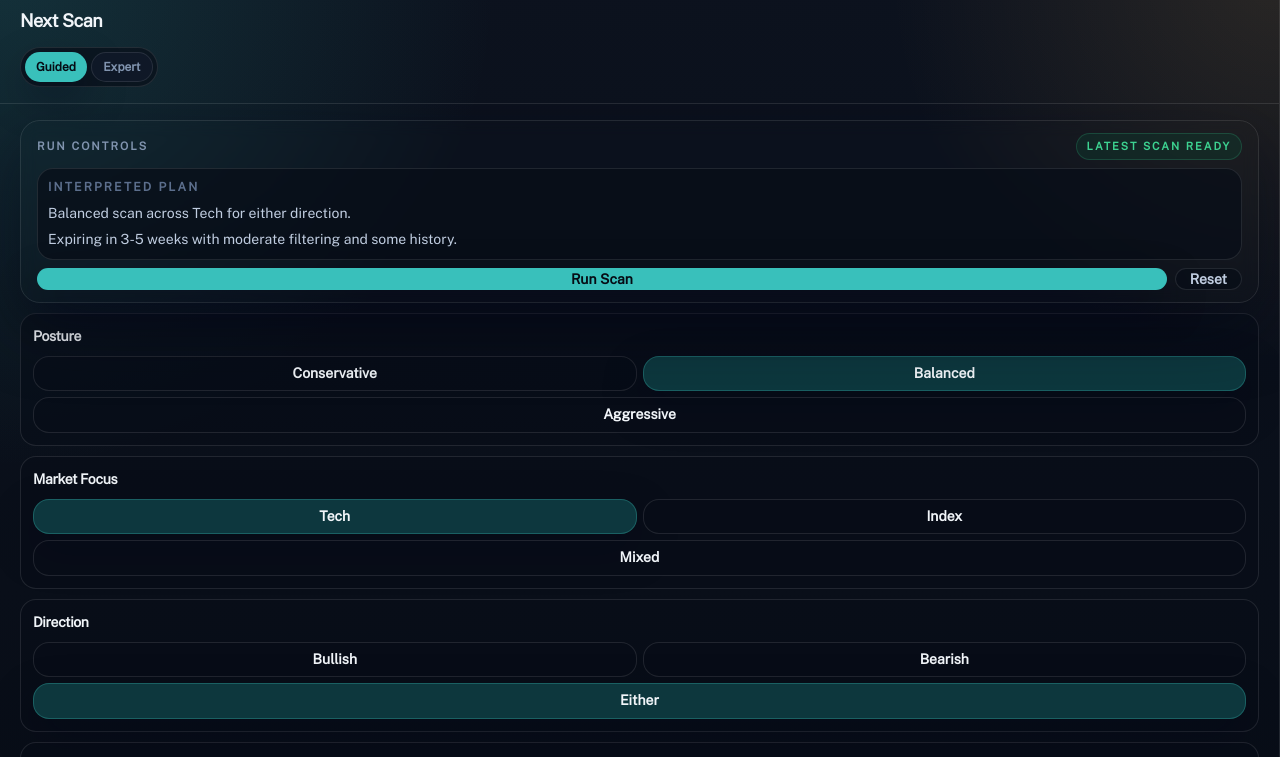
Test: Sidebar › renders a short interpreted plan summary that updates as guided choices change
Expected: the text "Balanced scan across Tech for either direction." is shown, [48,205,351,221]
Expected: the text "Expiring in 3-5 weeks with moderate filtering and some history." is shown, [48,231,457,247]
Click the button "Bearish" at (944, 659), box [642,642,1246,677]
(page scrolled)
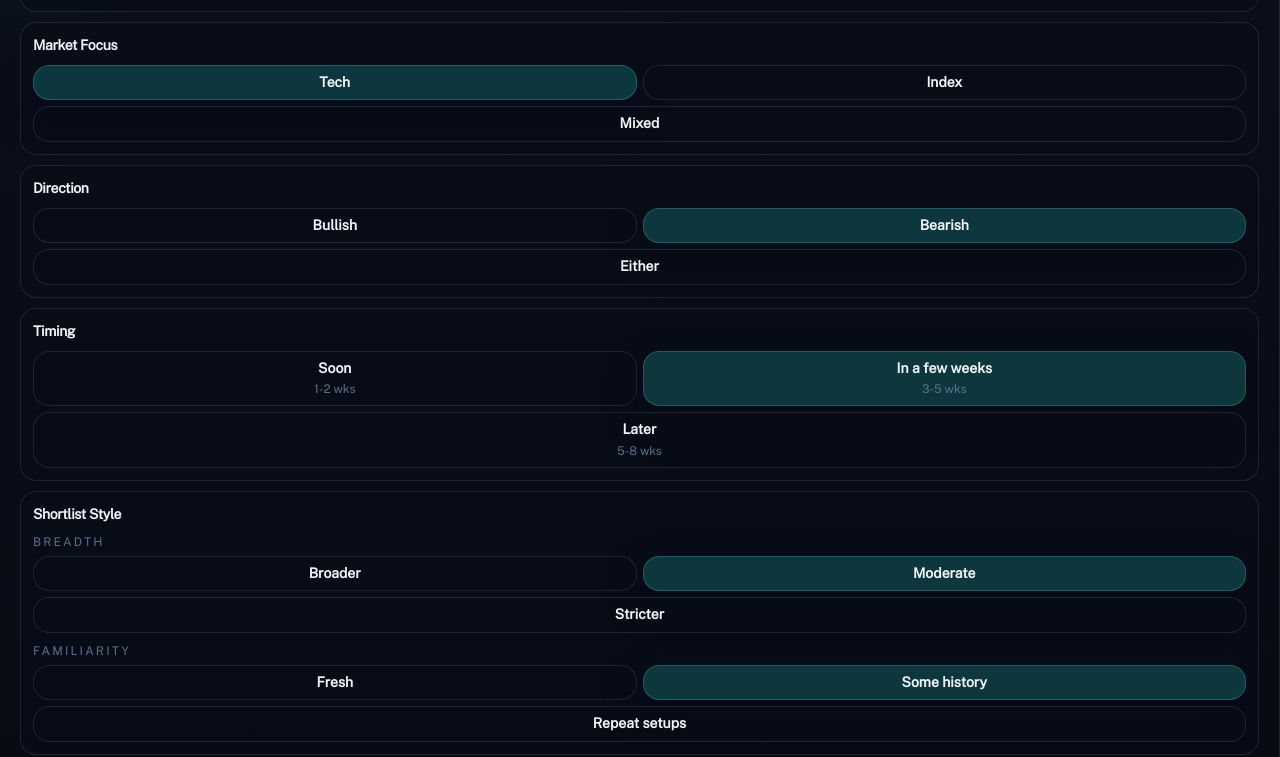
Click the button "Later 5-8 wks" at (640, 440), box [33,412,1246,468]
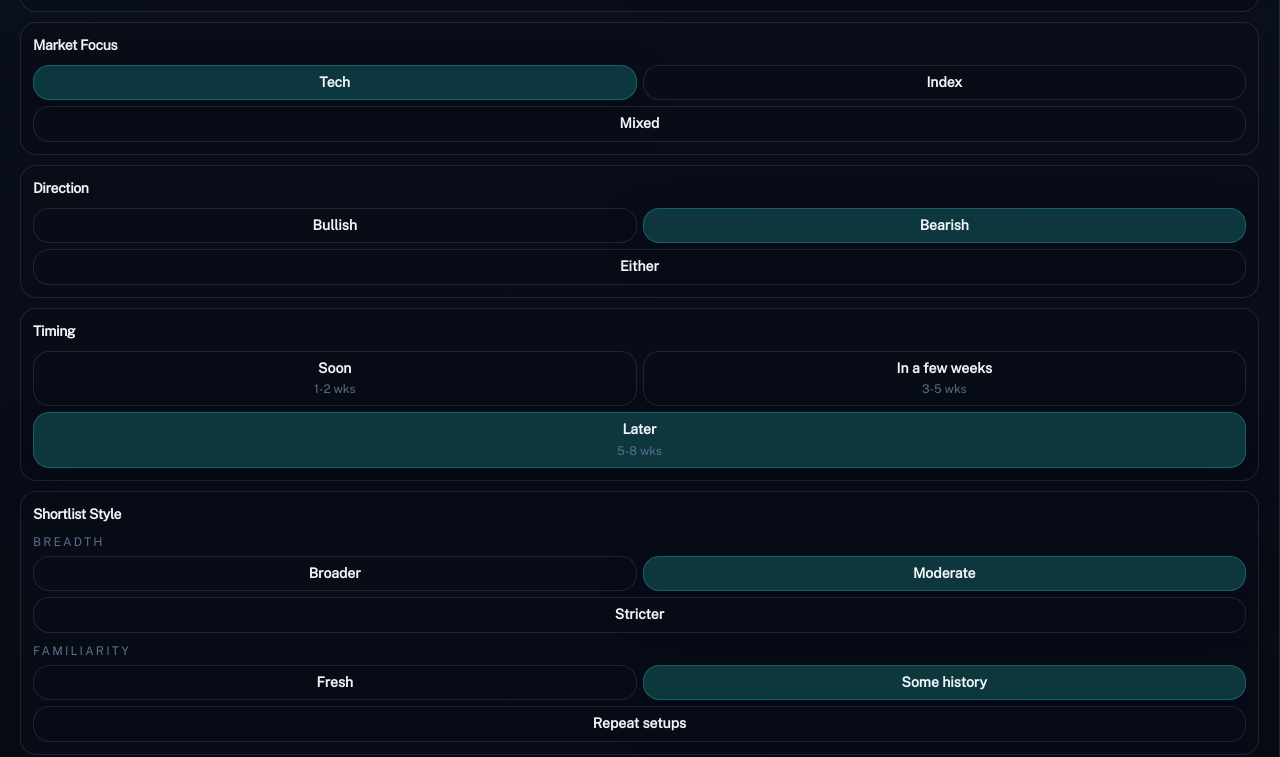
Click the button "Stricter" at (640, 615), box [33,597,1246,633]
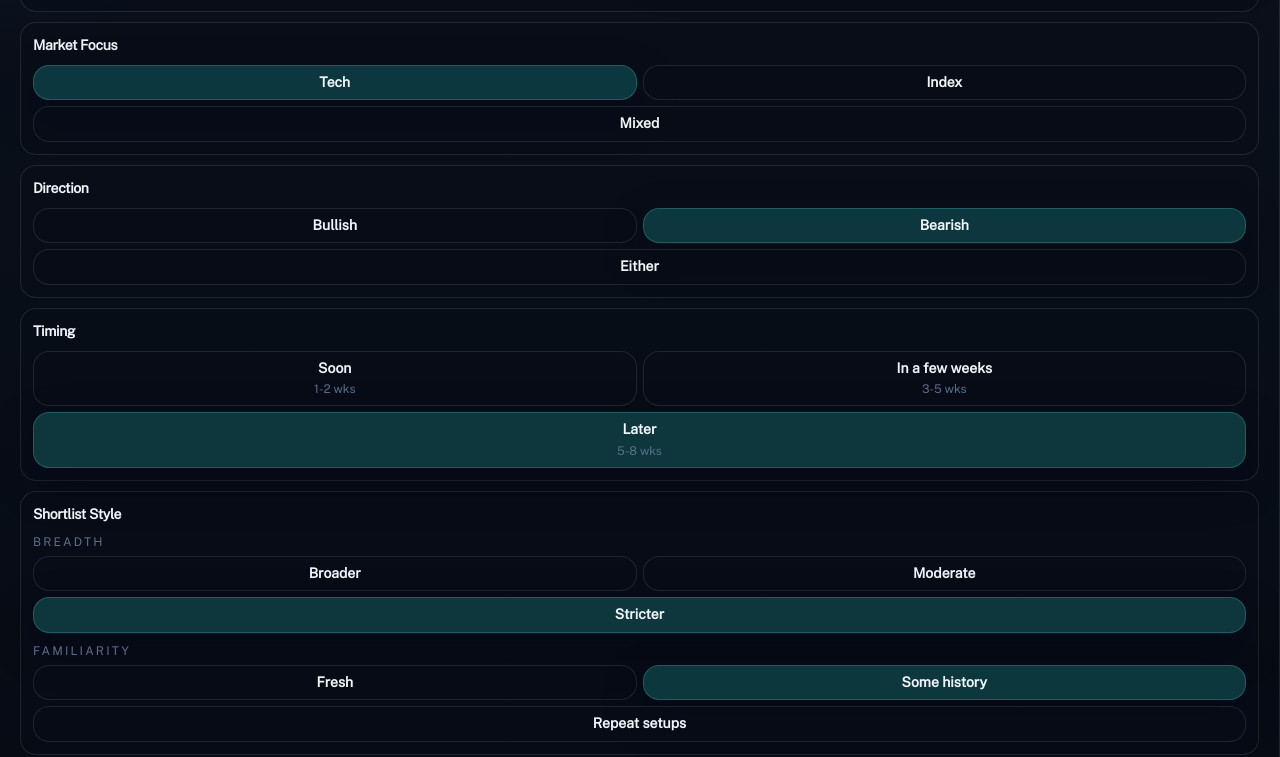
Click the button "Repeat setups" at (640, 724), box [33,706,1246,742]
(page scrolled)
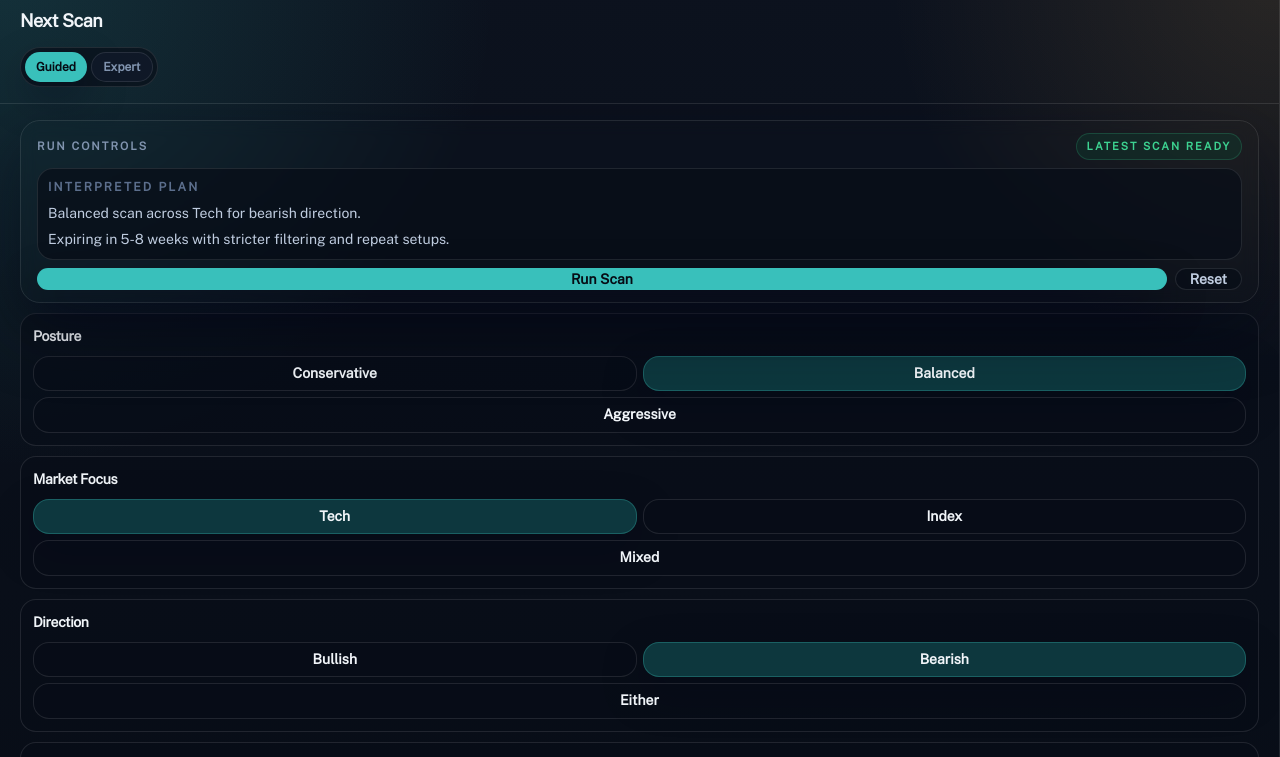
Expected: the text "Balanced scan across Tech for bearish direction." is shown, [48,205,361,221]
Expected: the text "Expiring in 5-8 weeks with stricter filtering and repeat setups." is shown, [48,231,449,247]
